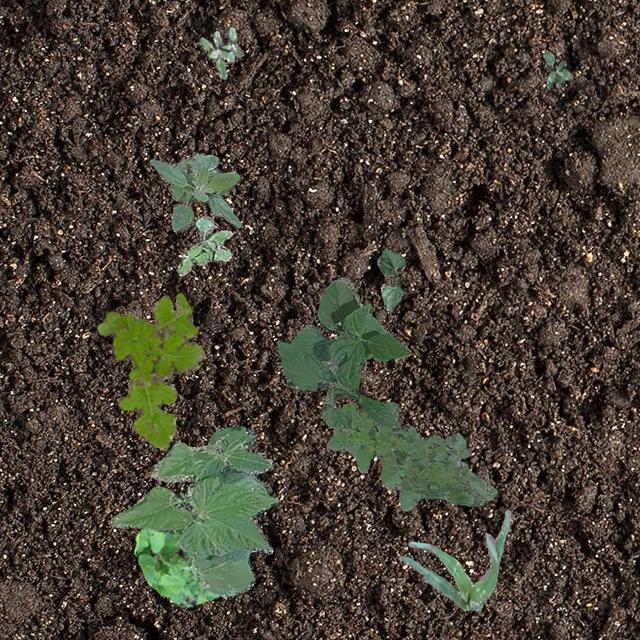crop: (110, 426, 278, 596), (276, 276, 410, 432), (398, 508, 509, 610), (148, 152, 240, 230), (376, 246, 404, 312)
weed: (326, 402, 496, 509), (95, 292, 204, 449), (134, 494, 218, 606), (176, 214, 232, 274), (198, 27, 242, 78), (542, 49, 572, 88)
